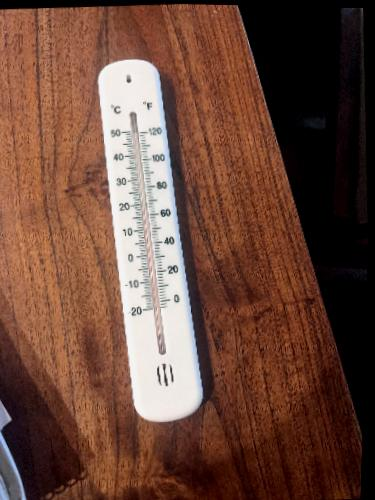thermo: (95, 60, 204, 420)
